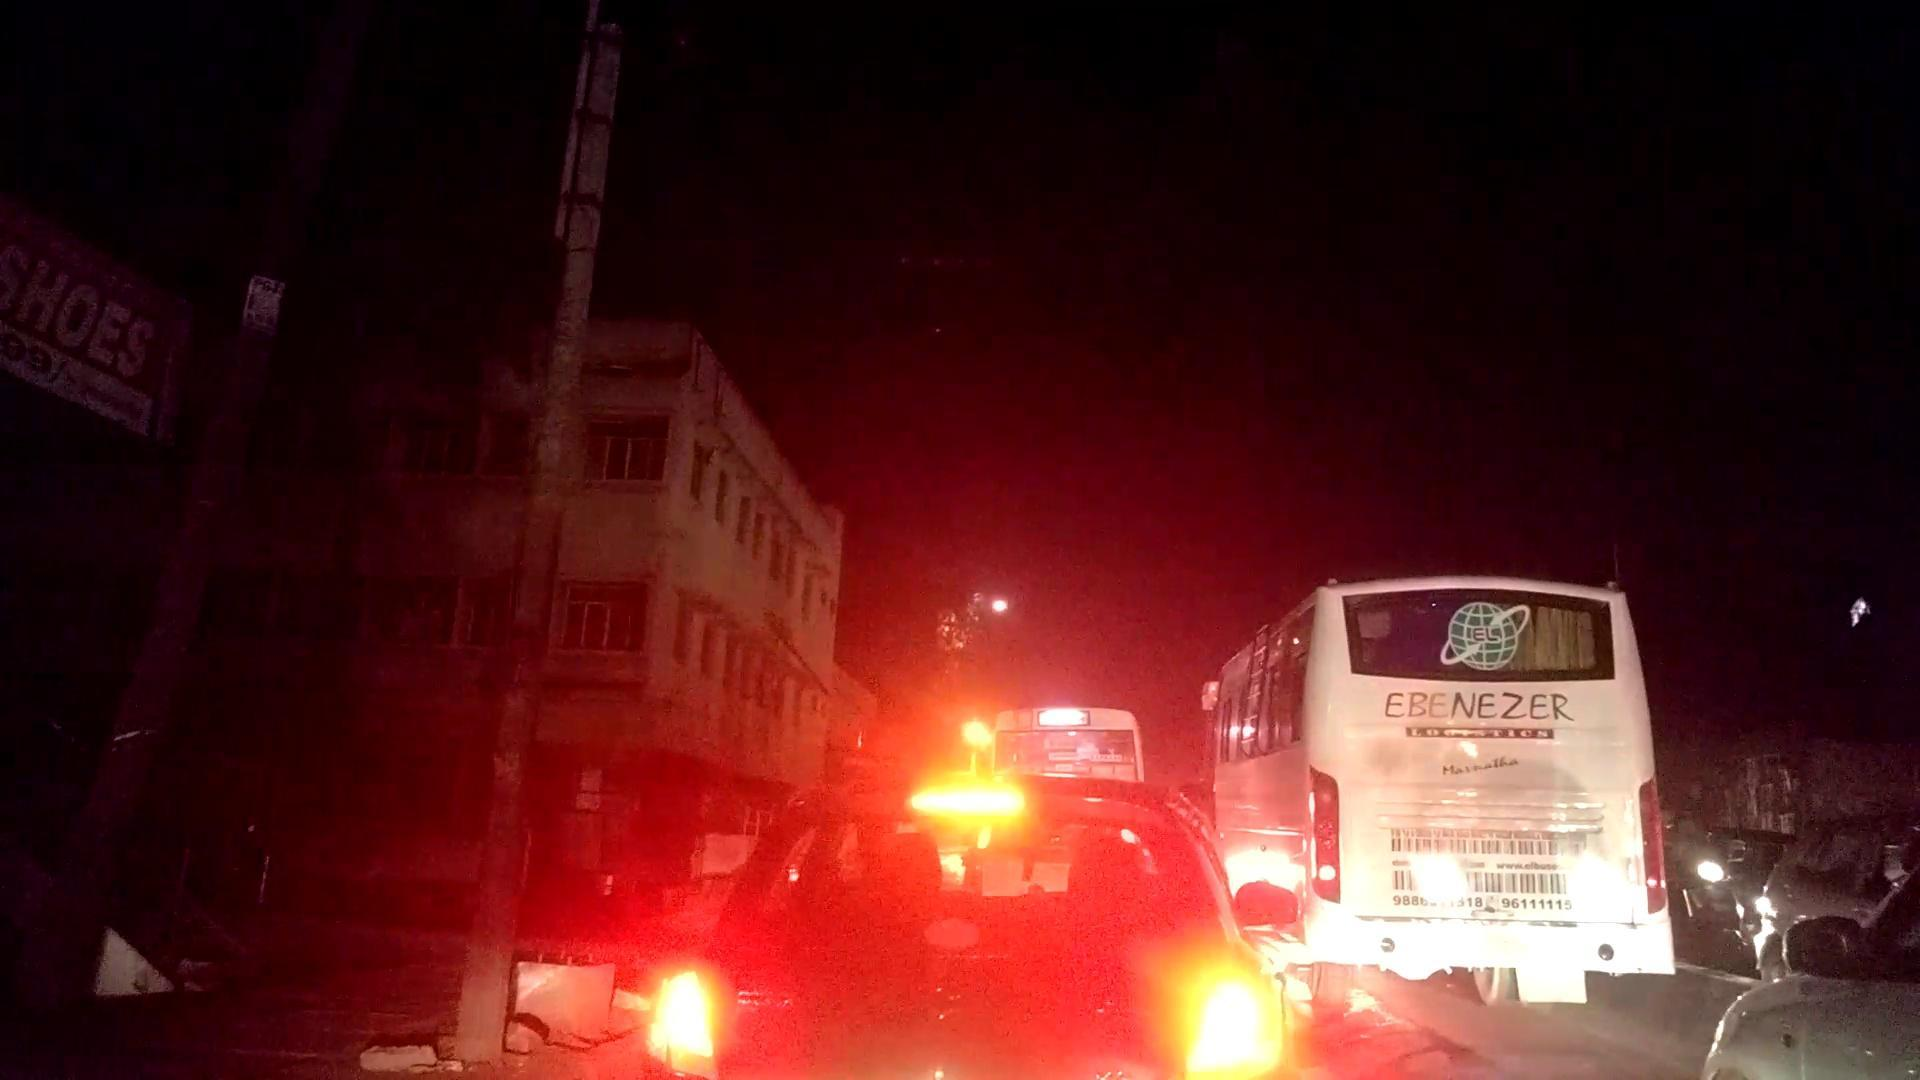on: (851, 553, 1431, 955)
